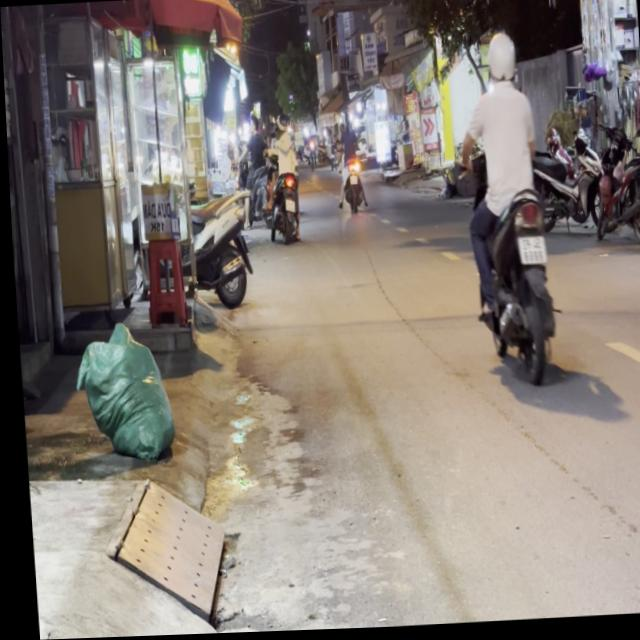helmet: (483, 33, 517, 89)
licenseplate: (450, 30, 560, 387)
nohelmet: (514, 237, 543, 265)
